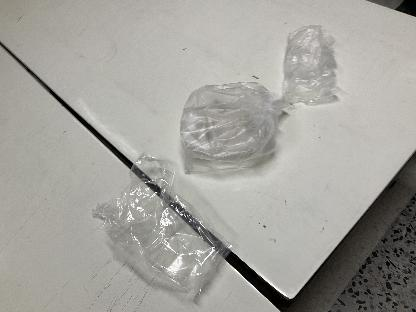Others: (80, 150, 237, 304), (166, 80, 288, 172), (284, 24, 346, 116)
